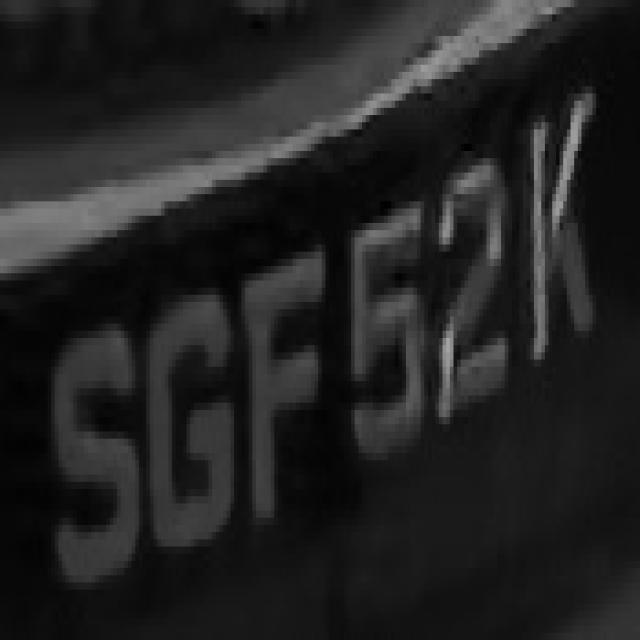2: (421, 137, 519, 417)
5: (340, 158, 428, 460)
F: (245, 216, 326, 539)
G: (139, 280, 234, 576)
K: (505, 58, 596, 360)
S: (44, 294, 143, 590)
